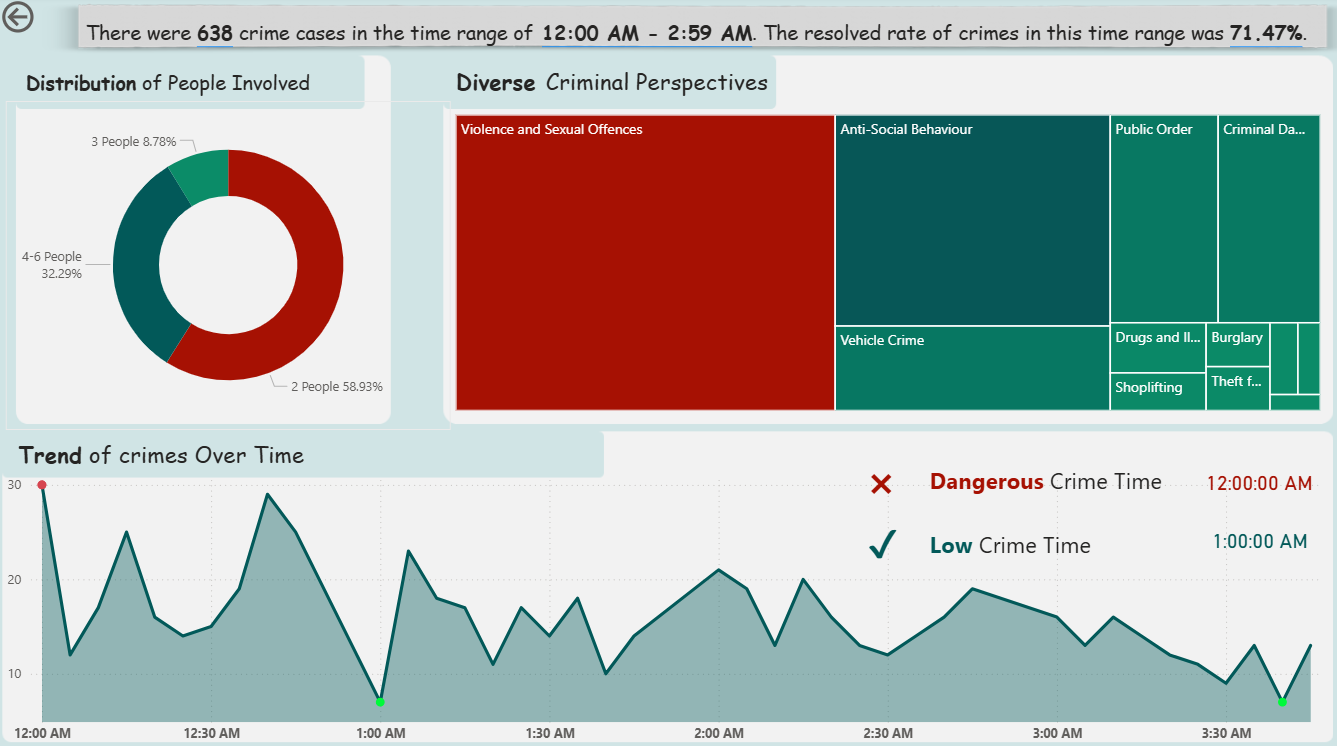

The dashboard page shown, as its layout file describes it:
{"tool":"powerbi","page":{"name":"Details","canvas":[1280,720],"ordinal":1},"visuals":[{"type":"actionButton","box":[0,0,100.2,39.8],"z":0},{"type":"lineChart","fields":{"Category":["Crimes Data.Crime Time"],"Y":["Calculations.Total Crimes","Calculations.Max Crime Point","Calculations.Min Crime Point"]},"box":[0,447.3,1280.3,273.1],"z":1000},{"type":"treemap","fields":{"Group":["Crime Types.Crime"],"Values":["Calculations.Total Crimes"]},"box":[432.1,108.3,833.3,291.7],"z":3000},{"type":"textbox","box":[882.9,441.9,299.1,42.5],"z":4000},{"type":"card","fields":{"Values":["Calculations.Cross"]},"box":[809.9,433.3,65.9,52.1],"z":5000},{"type":"textbox","box":[883.2,484.1,296.4,70],"z":6000},{"type":"card","fields":{"Values":["Calculations.Check"]},"box":[810.2,494.8,65.9,52.1],"z":7000},{"type":"card","fields":{"Values":["Min(Crimes Data.Crime Time)"]},"box":[1130.7,436.4,142.7,53.5],"z":8000},{"type":"card","fields":{"Values":["Min(Crimes Data.Crime Time)"]},"box":[1130.7,492.6,144.1,53.5],"z":9000},{"type":"textbox","box":[15.1,417.2,299.1,42.5],"z":10000},{"type":"textbox","box":[432.2,61.7,377.4,42.5],"z":12000},{"type":"donutChart","fields":{"Category":["Crimes Data.People Involved Group"],"Y":["Calculations.Total Crimes"]},"box":[8.2,100.2,424,312.9],"z":14000},{"type":"textbox","box":[50.8,16.5,1229.5,46.7],"z":15001},{"type":"textbox","box":[0,64.5,330.7,46.7],"z":15002}]}

Visuals, with their boxes in screenshot pixels (x1, y1, x2, y2), scaled from the page's 1280x720 canvas onto the 1337x746 screenshot:
actionButton: [x1=0, y1=0, x2=105, y2=41]
lineChart - Crimes Data.Crime Time x Calculations.Total Crimes: [x1=0, y1=463, x2=1336, y2=745]
treemap - Crime Types.Crime x Calculations.Total Crimes: [x1=451, y1=112, x2=1322, y2=414]
textbox: [x1=922, y1=458, x2=1235, y2=502]
card - Calculations.Cross: [x1=846, y1=449, x2=915, y2=503]
textbox: [x1=923, y1=502, x2=1232, y2=574]
card - Calculations.Check: [x1=846, y1=513, x2=915, y2=567]
card - Min(Crimes Data.Crime Time): [x1=1181, y1=452, x2=1330, y2=508]
card - Min(Crimes Data.Crime Time): [x1=1181, y1=510, x2=1332, y2=566]
textbox: [x1=16, y1=432, x2=328, y2=476]
textbox: [x1=451, y1=64, x2=846, y2=108]
donutChart - Crimes Data.People Involved Group x Calculations.Total Crimes: [x1=9, y1=104, x2=451, y2=428]
textbox: [x1=53, y1=17, x2=1336, y2=65]
textbox: [x1=0, y1=67, x2=345, y2=115]
